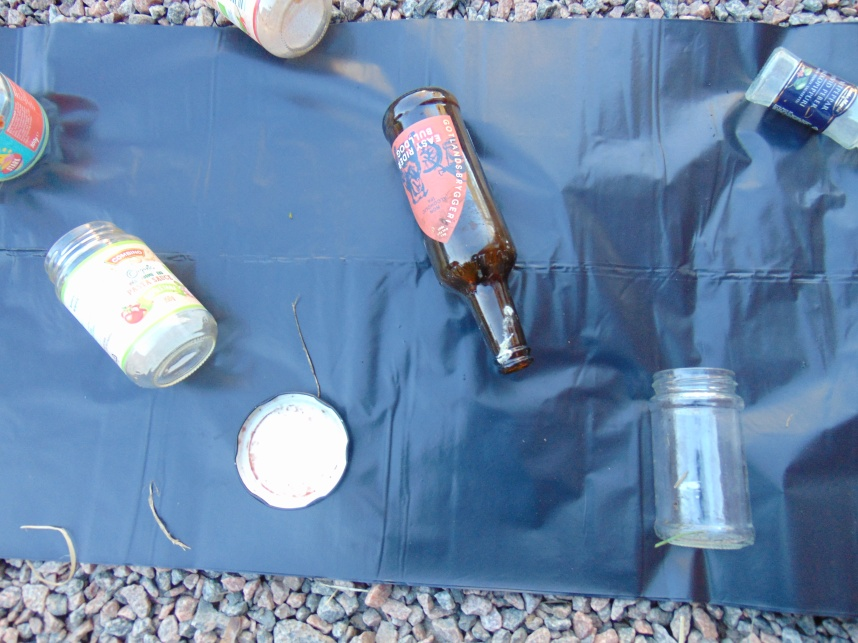glass_bottle: (383, 89, 534, 374), (42, 220, 221, 389), (650, 365, 757, 552), (745, 46, 858, 151), (198, 1, 335, 57), (1, 62, 47, 183)
metal: (232, 392, 353, 512)
